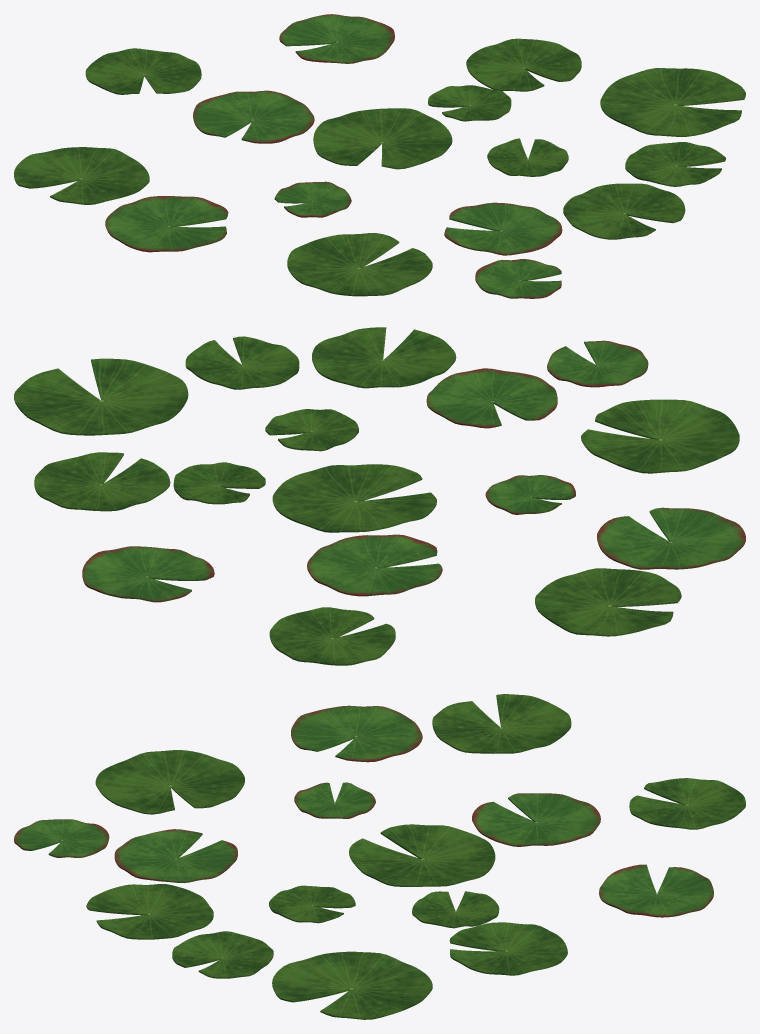
File: lily_pads_a.gltf
3 views of the same model, one above another, from view 1: azimuth 30°, elevation 25°; view 2: azimuth 150°, elevation 25°; view 3: azimuth 270°, elevation 25° (orthographic). The views are drawn at different scales.
Visible parts, largest first — view 1: lily_pads_a; view 2: lily_pads_a; view 3: lily_pads_a.
Boxes of the visible parts, <box> form: lily_pads_a: <box>14,14,745,298</box>; lily_pads_a: <box>14,327,745,665</box>; lily_pads_a: <box>14,694,745,1019</box>.
Bounding box in the file's own units: 1.58 × 0.0183 × 1.52.
1 material, 1 textured.
